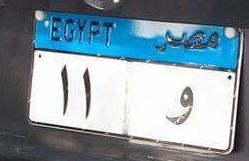1: (56, 60, 74, 117), (79, 66, 96, 122)
waw: (164, 79, 194, 131)
